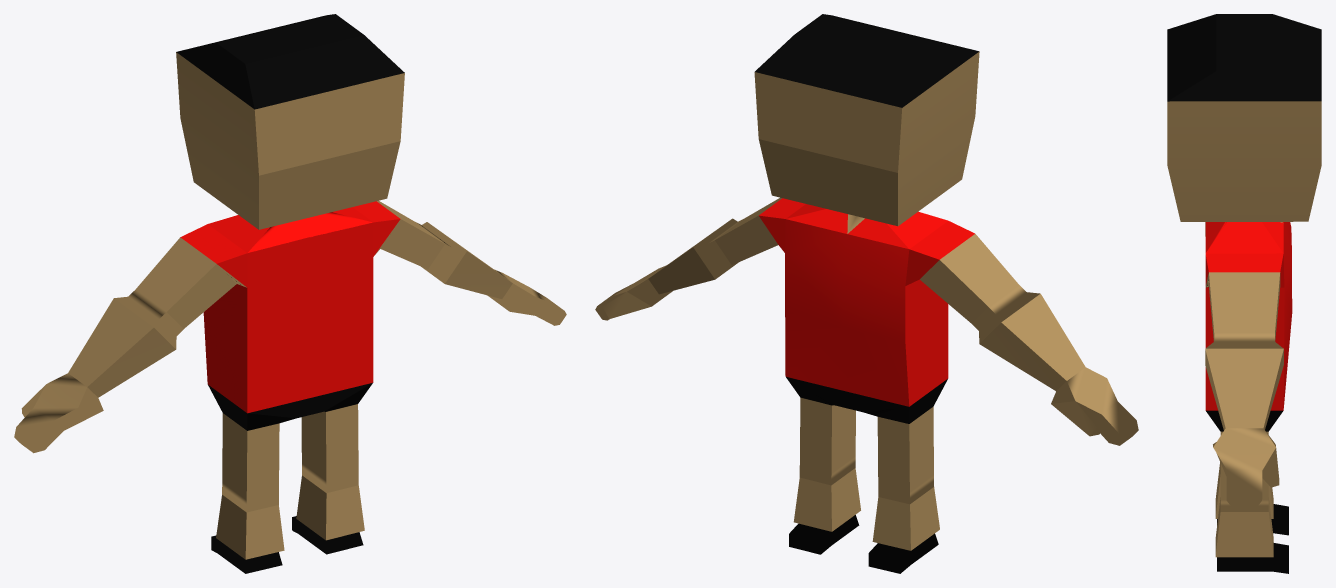
File: boneco.fbx
3 views of the same model, side by side, from view 1: azimuth 30°, elevation 25°; view 2: azimuth 150°, elevation 25°; view 3: azimuth 270°, elevation 25° (orthographic).
Visible parts, largest first — view 1: Cube; view 2: Cube; view 3: Cube.
Boxes of the visible parts, <box> form: Cube: <box>14,14,566,573</box>; Cube: <box>595,14,1138,573</box>; Cube: <box>1167,14,1321,573</box>.
Size of the model in its own units: 855 by 778 by 216.
